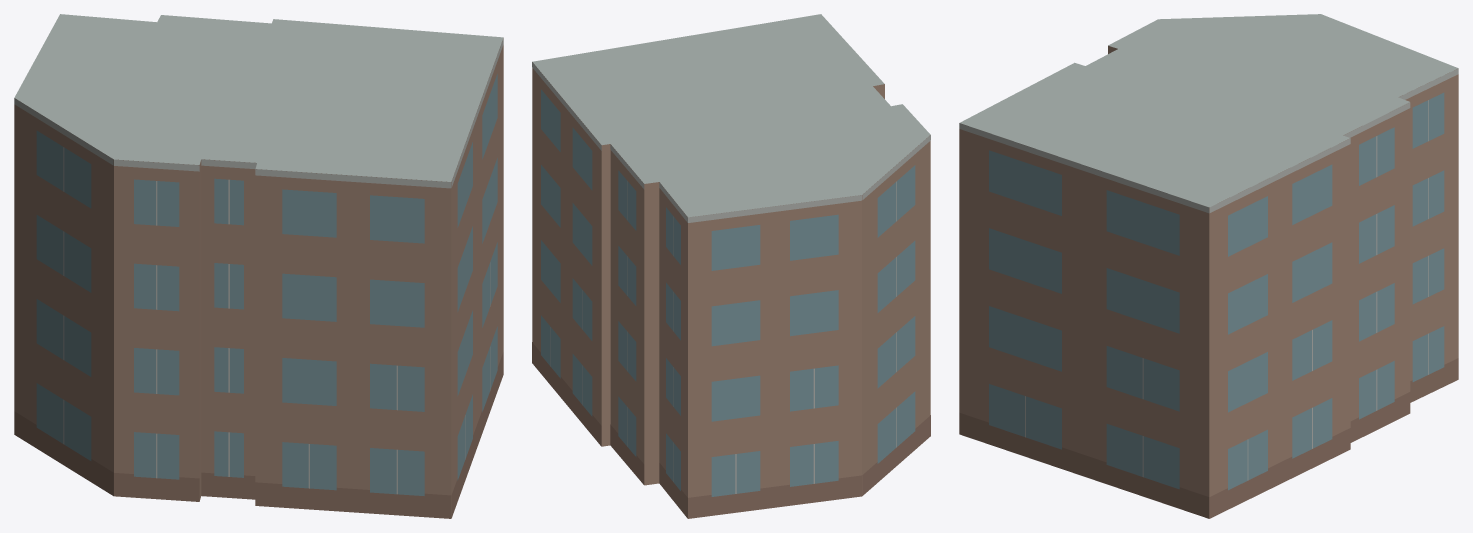
Rendered from survey-upis-32645070.glb.
3 views of the same model, side by side, from view 1: azimuth 30°, elevation 25°; view 2: azimuth 150°, elevation 25°; view 3: azimuth 270°, elevation 25° (orthographic). The views are drawn at different scales.
Parts seen in each view (by area): view 1: survey-upis-32645070.tmp; view 2: survey-upis-32645070.tmp; view 3: survey-upis-32645070.tmp.
Part boxes in pixels (bbox=[...]): survey-upis-32645070.tmp: bbox=[14, 14, 503, 518]; survey-upis-32645070.tmp: bbox=[532, 14, 930, 518]; survey-upis-32645070.tmp: bbox=[959, 14, 1458, 518].
Bounding box in the file's own units: 17.07 × 12.8 × 18.61.
